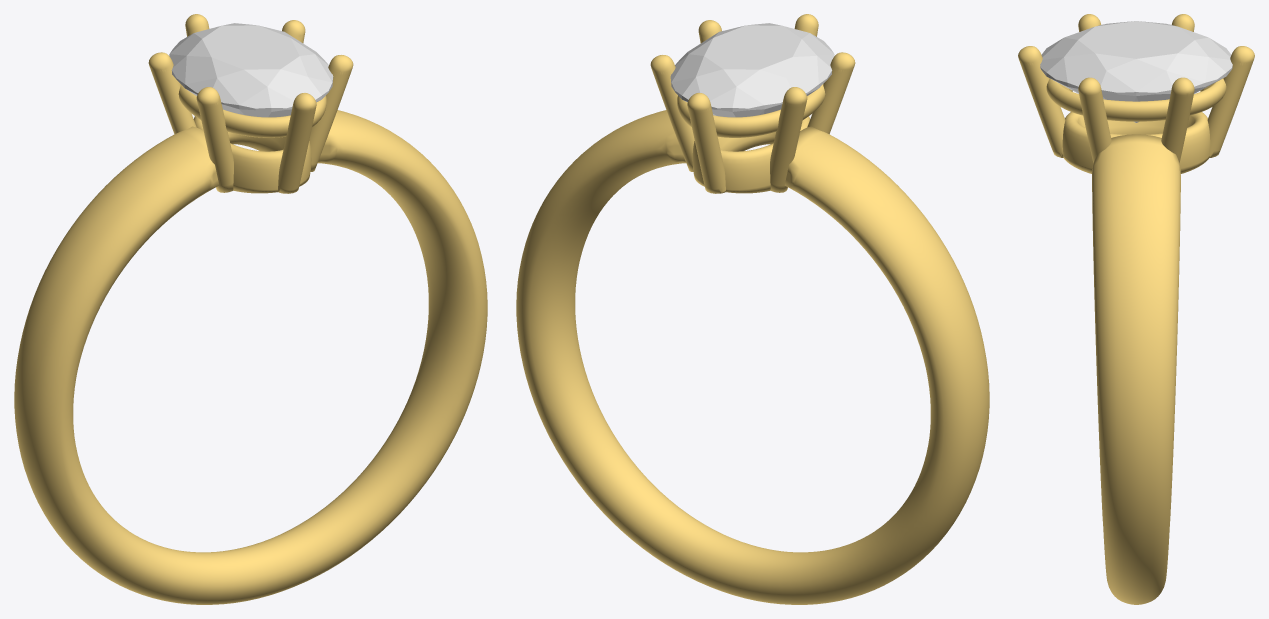
File: diamond-oval-yellowgold-6prong-taperedband-nosidestones.glb
3 renders of one model, left to right at view 1: azimuth 30°, elevation 25°; view 2: azimuth 150°, elevation 25°; view 3: azimuth 270°, elevation 25°, orthographic.
Parts seen in each view (by area): view 1: metal, stone; view 2: metal, stone; view 3: metal, stone.
Boxes of the visible parts, <box> form: metal: <box>14,14,487,604</box>; stone: <box>169,23,333,117</box>; metal: <box>516,14,989,604</box>; stone: <box>670,23,834,117</box>; metal: <box>1018,14,1254,604</box>; stone: <box>1040,21,1232,122</box>.
Size of the model in its own units: 20.48 by 23.4 by 9.29.
